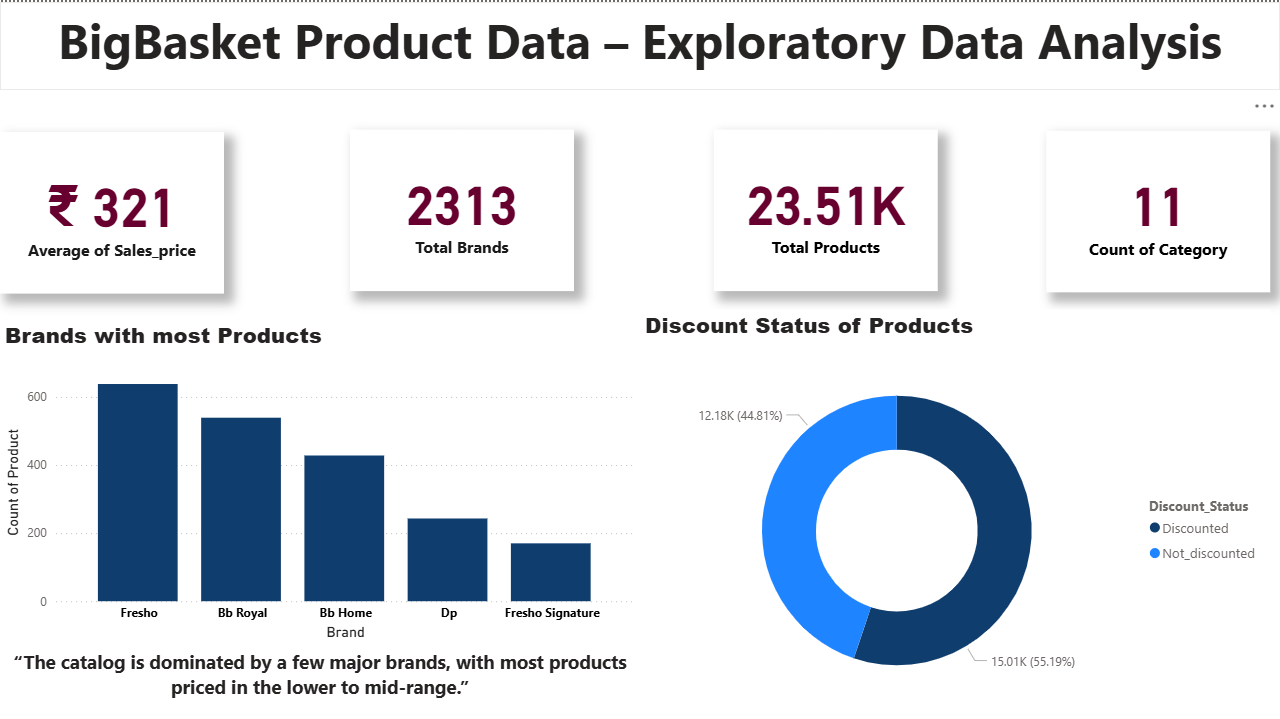

Layout of this report page (visuals, bound fields, positions):
{"tool":"powerbi","page":{"name":"Overveiw","canvas":[1280,720],"ordinal":0},"visuals":[{"type":"card","fields":{"Values":["Count(BigBasket Products.Product)"]},"box":[714.3,127.1,224.3,161.4],"z":0},{"type":"card","fields":{"Values":["Count(BigBasket Products.Brand)"]},"box":[350,127.1,224.3,161.4],"z":1000},{"type":"card","fields":{"Values":["Avg(BigBasket Products.Sales_price)"]},"box":[0,130,224.3,161.4],"z":2000},{"type":"clusteredColumnChart","title":"Brands with most Products","fields":{"Category":["BigBasket Products.Brand"],"Y":["CountNonNull(BigBasket Products.Product)"]},"box":[0,317.1,640,325.7],"z":3000},{"type":"textbox","box":[0,0,1280,88.6],"z":4000},{"type":"card","fields":{"Values":["Count(BigBasket Products.Category)"]},"box":[1045.7,128.6,224.3,161.4],"z":5000},{"type":"donutChart","title":"Discount Status of Products","fields":{"Category":["BigBasket Products.Discount_Status"],"Y":["CountNonNull(BigBasket Products.Product)"]},"box":[640,307.1,630,412.9],"z":6000},{"type":"textbox","box":[0,642.9,640,77.1],"z":7000}]}

Visuals, with their boxes in screenshot pixels (x1, y1, x2, y2), scaled from the page's 1280x720 canvas onto the 1280x719 screenshot:
card - Count(BigBasket Products.Product): bbox=(714, 127, 939, 288)
card - Count(BigBasket Products.Brand): bbox=(350, 127, 574, 288)
card - Avg(BigBasket Products.Sales_price): bbox=(0, 130, 224, 291)
"Brands with most Products" clusteredColumnChart: bbox=(0, 317, 640, 642)
textbox: bbox=(0, 0, 1279, 88)
card - Count(BigBasket Products.Category): bbox=(1046, 128, 1270, 290)
"Discount Status of Products" donutChart: bbox=(640, 307, 1270, 718)
textbox: bbox=(0, 642, 640, 718)
